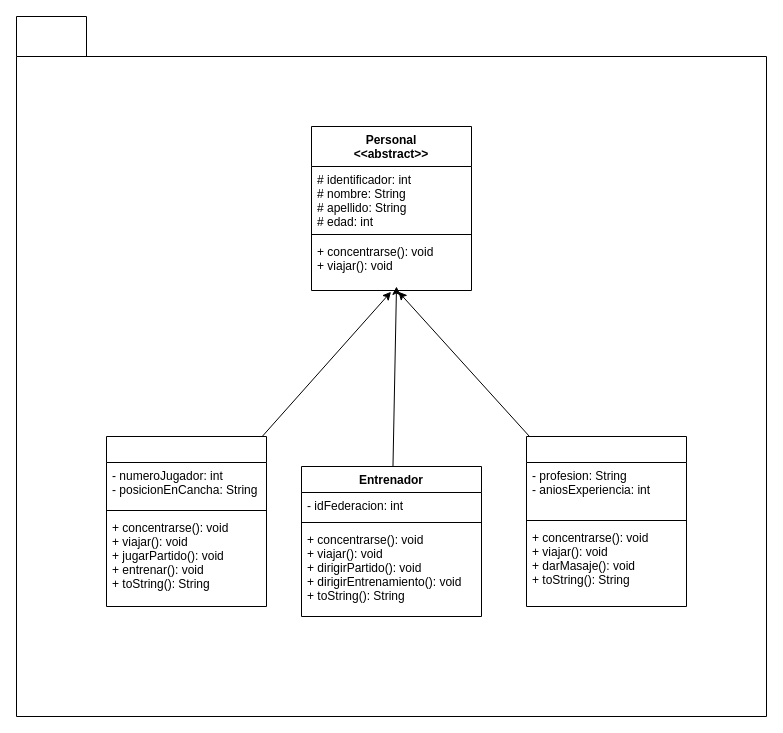
This 783x733 diagram has some shape labels left out. Here are the shapes that lost their labels. From the top down, the box of each, then its label:
(106, 436, 266, 606): Futbolista
(526, 436, 686, 606): Masajista
